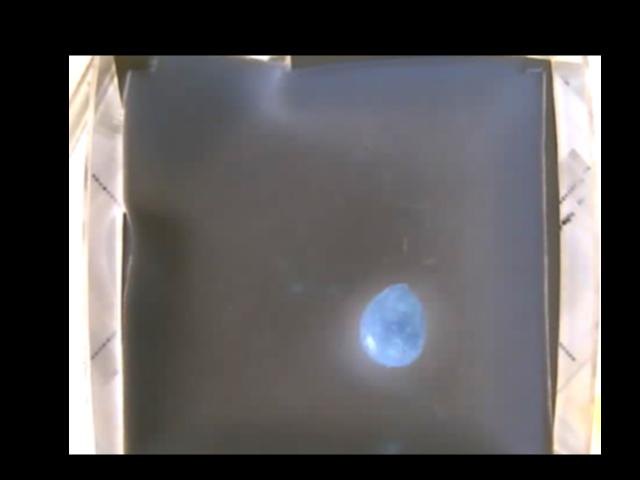Potato: (359, 284, 428, 368)
